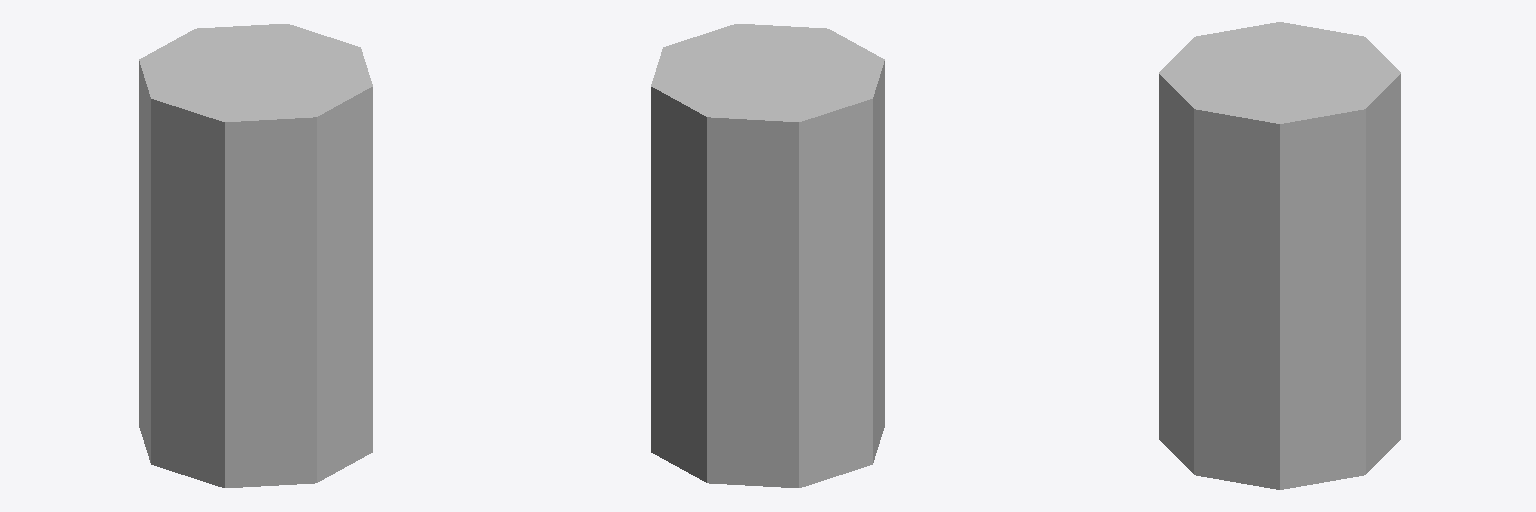
Rendered from fuselage_3m_simple_long.obj.
3 renders of one model, left to right at view 1: azimuth 30°, elevation 25°; view 2: azimuth 150°, elevation 25°; view 3: azimuth 270°, elevation 25°, orthographic.
Parts seen in each view (by area): view 1: Cylinder; view 2: Cylinder; view 3: Cylinder.
Boxes of the visible parts, <box> form: Cylinder: <box>139,24,372,487</box>; Cylinder: <box>651,24,884,487</box>; Cylinder: <box>1159,22,1400,489</box>.
Size of the model in its own units: 3 by 5 by 3.